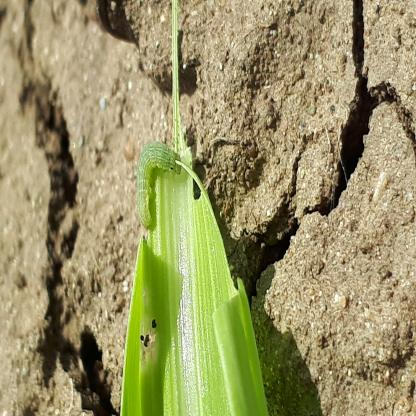armyworm: (106, 241, 152, 321)
